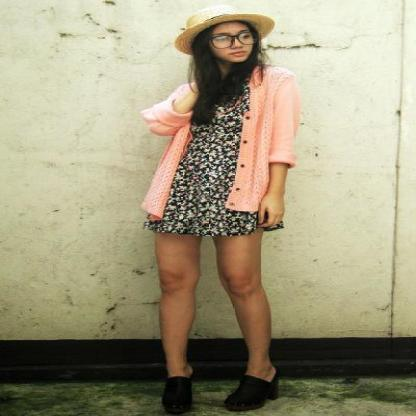dress: (148, 96, 283, 240)
hat: (175, 14, 285, 57)
jacket: (132, 75, 301, 231)
shoe: (162, 374, 278, 416)
